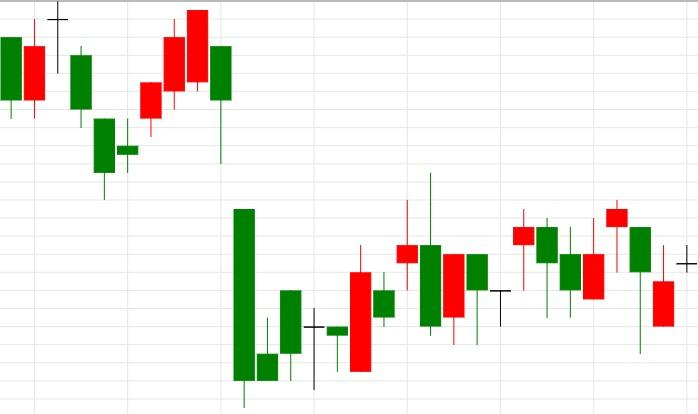bearish_engulfing_fall: (256, 172, 442, 390)
hanging_man_fall: (558, 200, 629, 318)
